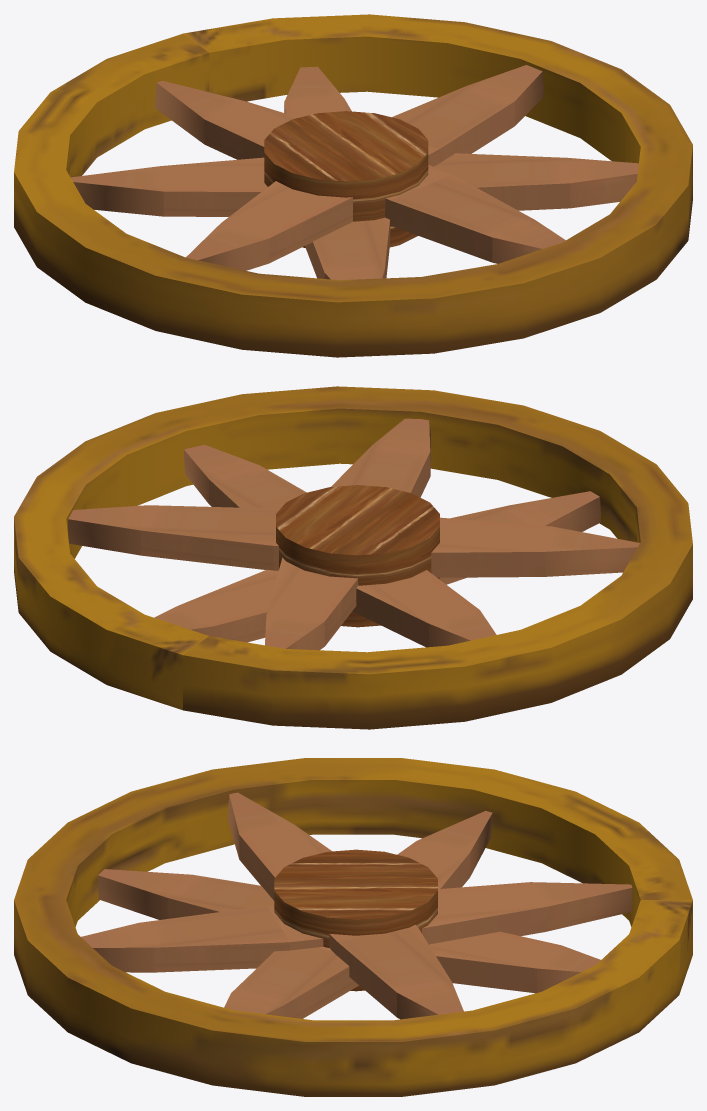
Rendered from wheel.FBX.
3 views of the same model, one above another, from view 1: azimuth 30°, elevation 25°; view 2: azimuth 150°, elevation 25°; view 3: azimuth 270°, elevation 25° (orthographic).
Parts seen in each view (by area): view 1: Tube001; view 2: Tube001; view 3: Tube001.
Part boxes in pixels (x1,y1,x2,y2): Tube001: [14, 14, 692, 357]; Tube001: [14, 386, 692, 729]; Tube001: [14, 758, 692, 1096].
Bounding box in the file's own units: 51.47 × 6.04 × 52.
